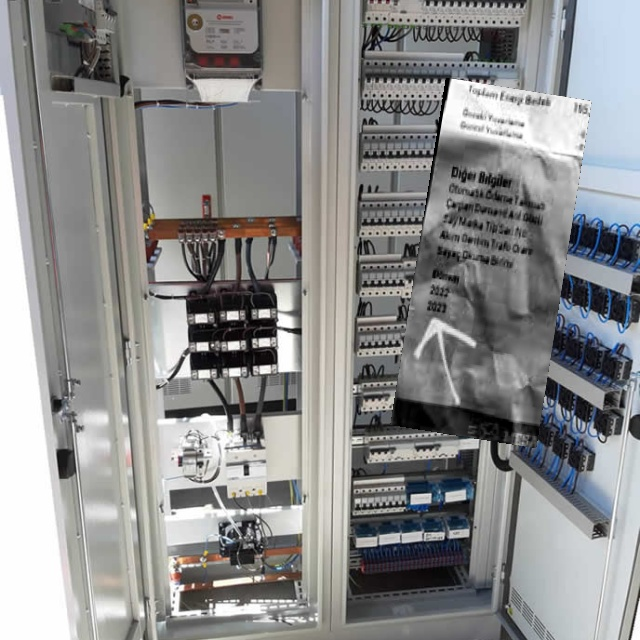electricity-bill: (389, 77, 591, 447)
